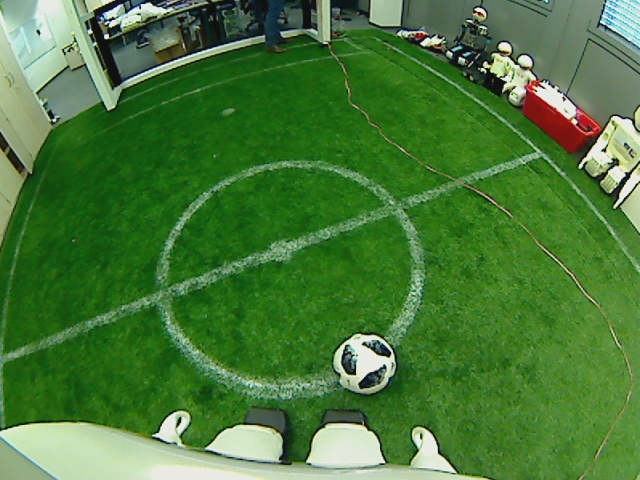ball: (330, 330, 397, 395)
